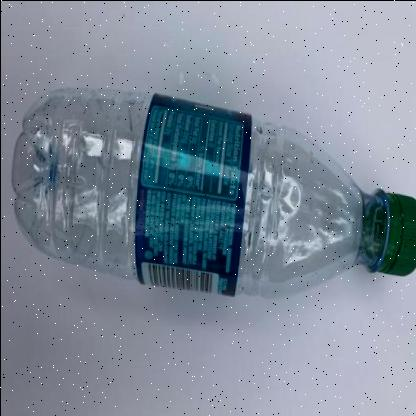Plastic Bottle: (10, 90, 416, 296)
